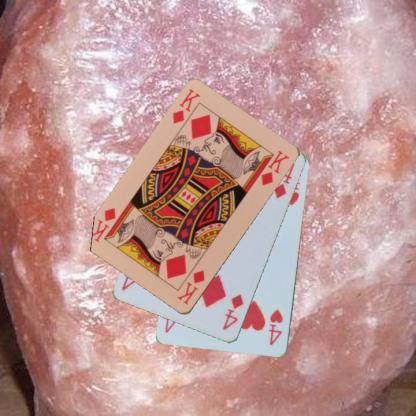4d: (220, 291, 246, 332)
4h: (266, 306, 284, 347)
Kd: (174, 268, 207, 306), (170, 86, 202, 125)
